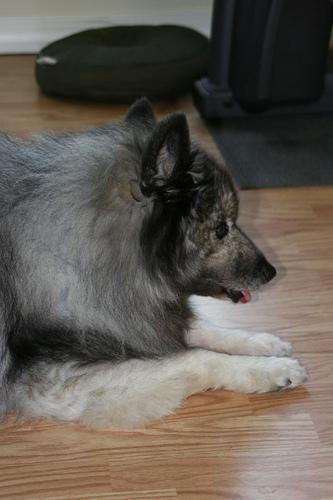dog-keeshond: (122, 96, 276, 302)
